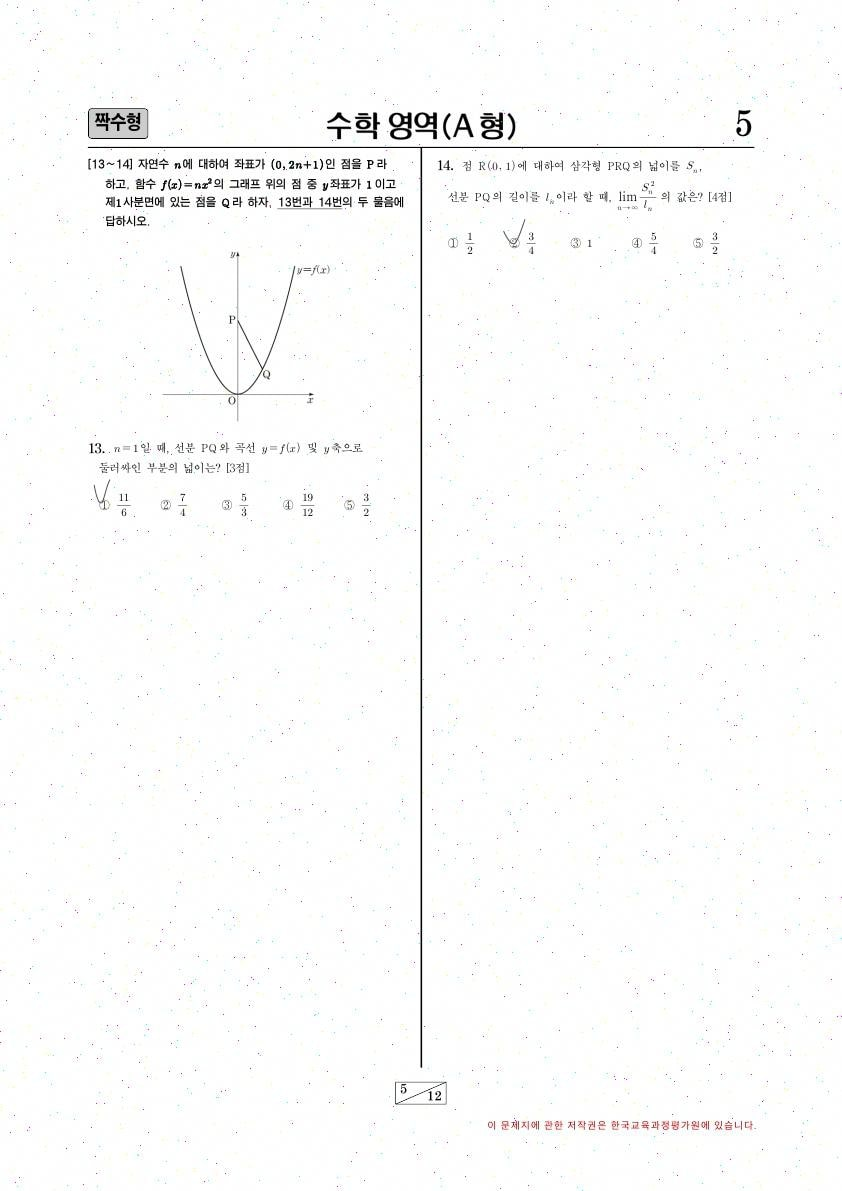question: (72, 148, 412, 532), (429, 152, 750, 270)
